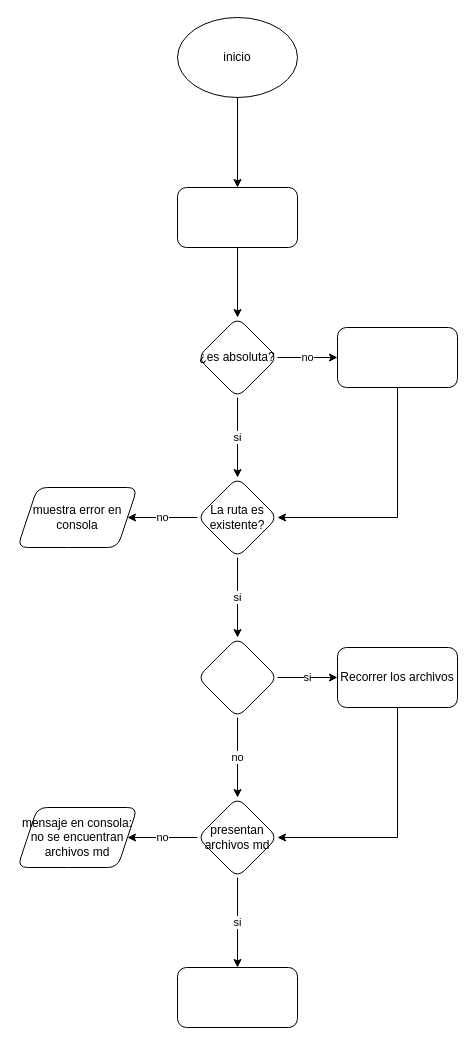
Image size: 475x1045. Some labels were removed from this diagram. Each missing label, with the box of its shape:
almacenar en un array los archivos md: (176, 966, 298, 1028)
INGRESA PATH: (176, 186, 298, 248)
Se convierte a absoluta: (336, 326, 458, 388)
¿Es un directorio?: (196, 636, 278, 718)
